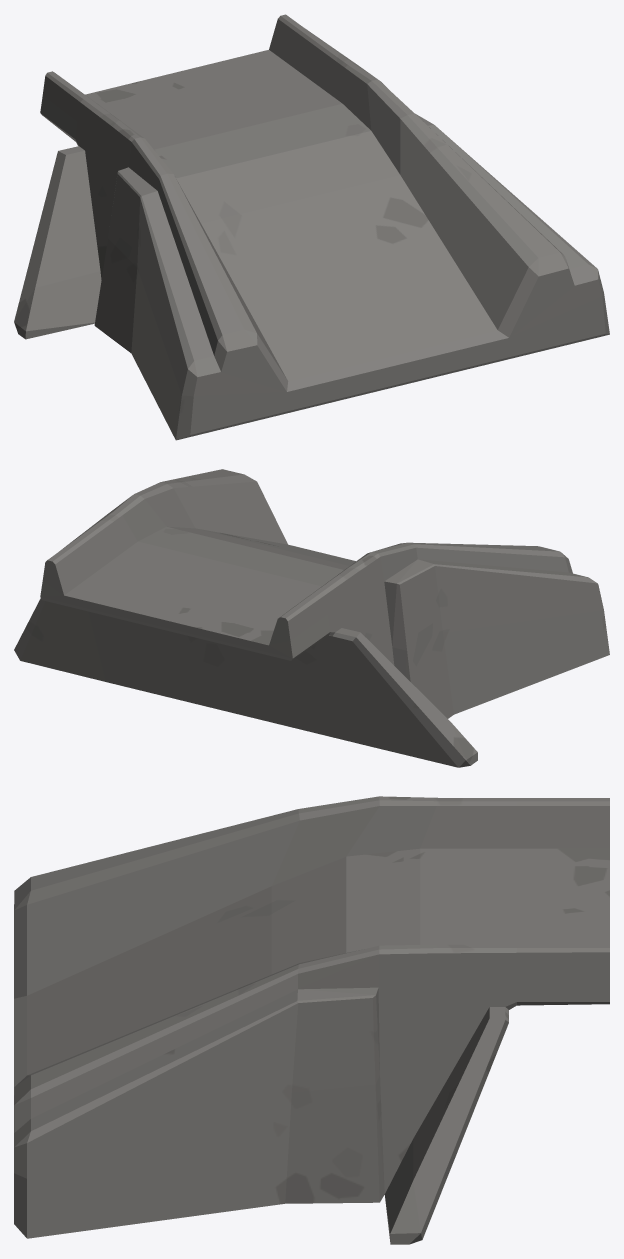
Rendered from SM_Env_Road_Ramp_Structure_01.fbx.
The picture shows the model from 3 angles, top to bottom: view 1: azimuth 30°, elevation 25°; view 2: azimuth 150°, elevation 25°; view 3: azimuth 270°, elevation 25°; orthographic projection. The views are drawn at different scales.
Visible parts, largest first — view 1: SM_Env_Road_Ramp_Structure_01; view 2: SM_Env_Road_Ramp_Structure_01; view 3: SM_Env_Road_Ramp_Structure_01.
Part boxes in pixels (box(x1,y1,x2,y2)): SM_Env_Road_Ramp_Structure_01: box(14, 14, 609, 440); SM_Env_Road_Ramp_Structure_01: box(14, 469, 609, 767); SM_Env_Road_Ramp_Structure_01: box(14, 796, 609, 1244).
Bounding box in the file's own units: 2455 × 924 × 2175.
